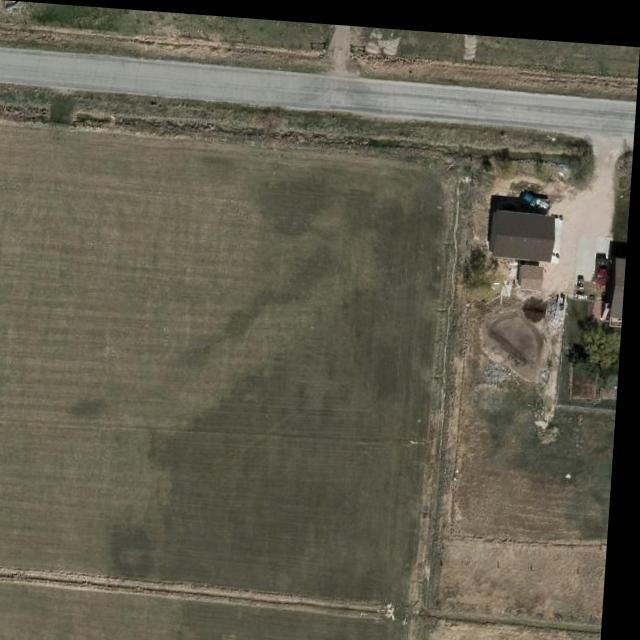vehicle: (519, 183, 555, 206), (595, 247, 613, 279)
